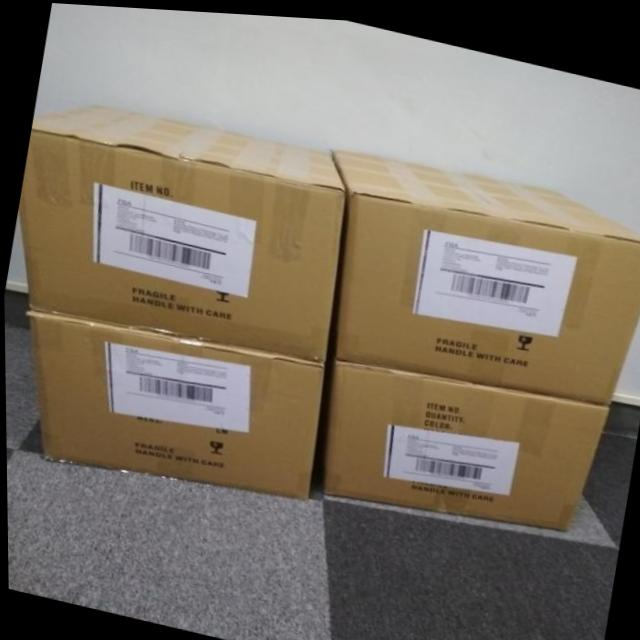box: (16, 103, 344, 359), (332, 147, 640, 398), (30, 313, 324, 494), (321, 356, 606, 527)
